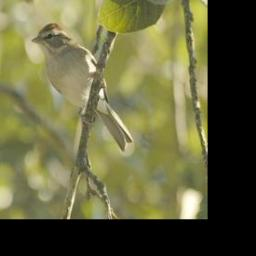Sparrow: (30, 20, 133, 152)
